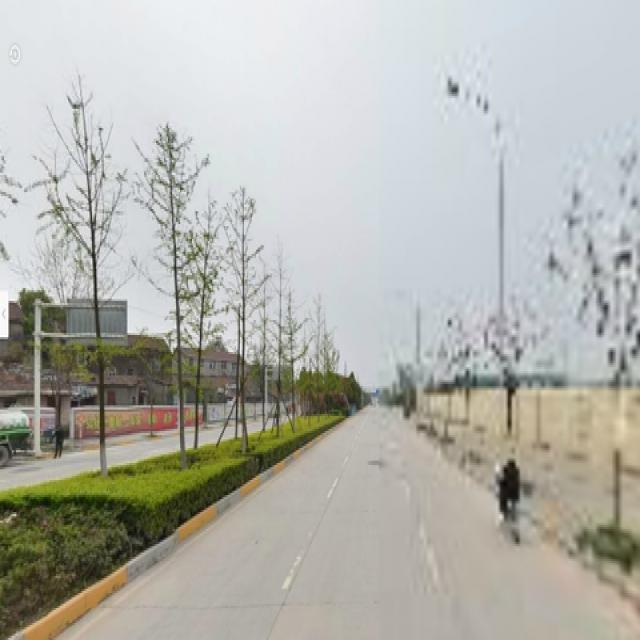gink: (136, 122, 208, 454)
